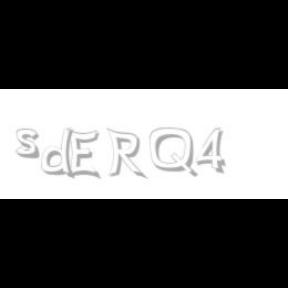4: (194, 128, 225, 174)
E: (66, 128, 100, 180)
Q: (150, 128, 196, 178)
R: (106, 128, 144, 180)
d: (42, 128, 78, 180)
s: (16, 128, 44, 160)
